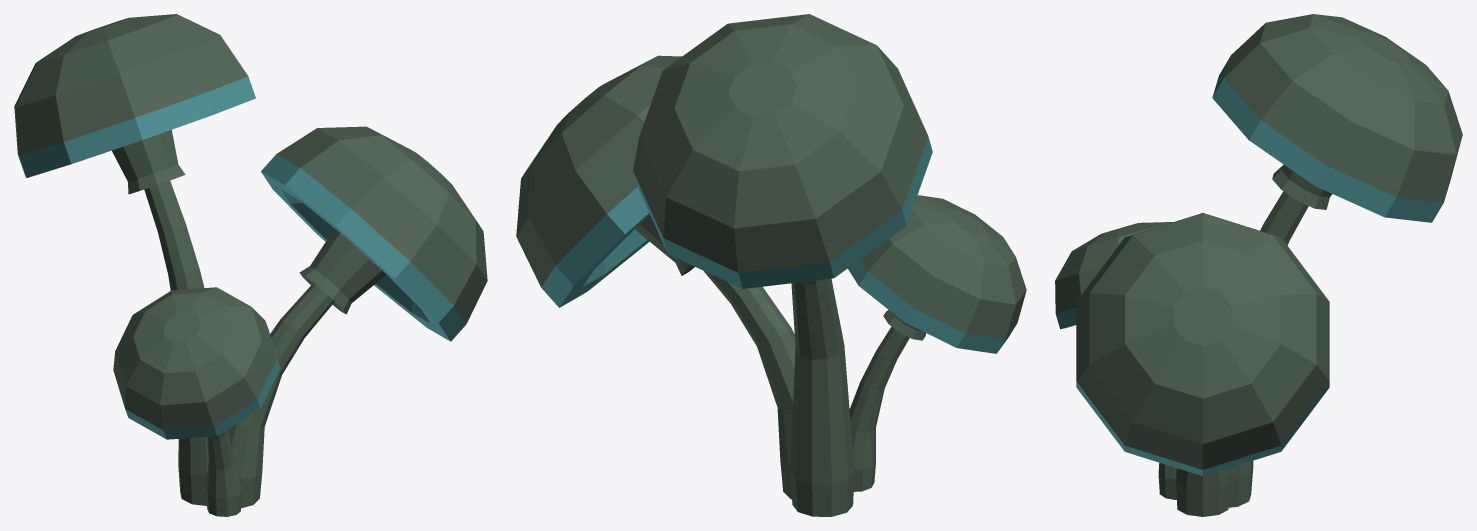
Rendered from ShroomCluster_1.fbx.
3 views of the same model, side by side, from view 1: azimuth 30°, elevation 25°; view 2: azimuth 150°, elevation 25°; view 3: azimuth 270°, elevation 25° (orthographic). The views are drawn at different scales.
Visible parts, largest first — view 1: ShroomCluster_1; view 2: ShroomCluster_1; view 3: ShroomCluster_1.
Part boxes in pixels (left/top/right/bottom): ShroomCluster_1: left=14, top=14, right=487, bottom=516; ShroomCluster_1: left=516, top=14, right=1026, bottom=516; ShroomCluster_1: left=1055, top=14, right=1462, bottom=516.
Bounding box in the file's own units: 1.03 × 1.15 × 0.9184.
